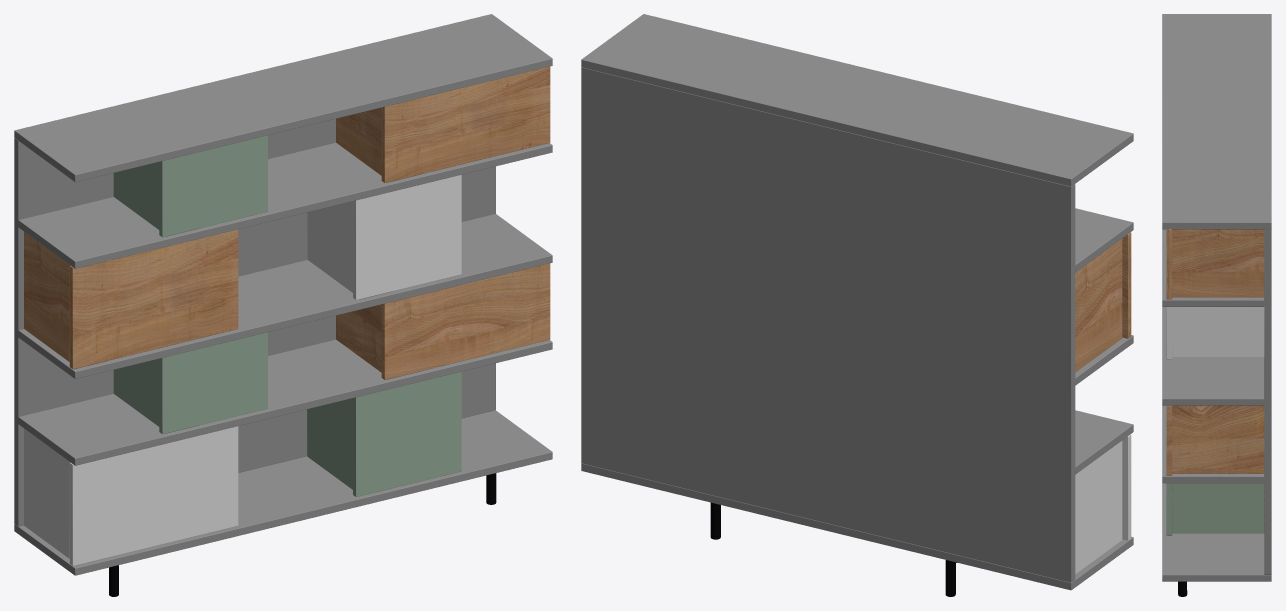
The picture shows the model from 3 angles, left to right: view 1: azimuth 30°, elevation 25°; view 2: azimuth 150°, elevation 25°; view 3: azimuth 270°, elevation 25°; orthographic projection. The views are drawn at different scales.
Visible parts, largest first — view 1: Fowler_Large_Shelving_Unit_GREY_0, Fowler_Large_Shelving_Unit_WOOD_0, Fowler_Large_Shelving_Unit_MUTED_GREY_0, Fowler_Large_Shelving_Unit_GREY_MINT_0; view 2: Fowler_Large_Shelving_Unit_GREY_0, Fowler_Large_Shelving_Unit_WOOD_0, Fowler_Large_Shelving_Unit_MUTED_GREY_0, Fowler_Large_Shelving_Unit_Material #157 Slot #6_0; view 3: Fowler_Large_Shelving_Unit_GREY_0, Fowler_Large_Shelving_Unit_WOOD_0, Fowler_Large_Shelving_Unit_MUTED_GREY_0, Fowler_Large_Shelving_Unit_GREY_MINT_0.
Boxes of the visible parts, <box> form: Fowler_Large_Shelving_Unit_GREY_0: <box>14,14,552,575</box>; Fowler_Large_Shelving_Unit_WOOD_0: <box>24,66,550,379</box>; Fowler_Large_Shelving_Unit_MUTED_GREY_0: <box>24,175,461,565</box>; Fowler_Large_Shelving_Unit_GREY_MINT_0: <box>113,135,461,496</box>; Fowler_Large_Shelving_Unit_GREY_0: <box>581,14,1133,590</box>; Fowler_Large_Shelving_Unit_WOOD_0: <box>1075,232,1131,372</box>; Fowler_Large_Shelving_Unit_MUTED_GREY_0: <box>1075,434,1131,573</box>; Fowler_Large_Shelving_Unit_Material #157 Slot #6_0: <box>710,502,957,596</box>; Fowler_Large_Shelving_Unit_GREY_0: <box>1162,14,1271,581</box>; Fowler_Large_Shelving_Unit_WOOD_0: <box>1166,229,1264,533</box>; Fowler_Large_Shelving_Unit_MUTED_GREY_0: <box>1166,307,1264,359</box>; Fowler_Large_Shelving_Unit_GREY_MINT_0: <box>1166,483,1263,535</box>.
Size of what is drawn, in the model's own units: 160 by 141 by 35.38.
6 materials, 1 textured.
